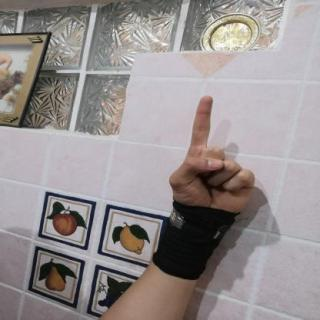BAA: (160, 90, 263, 222)
